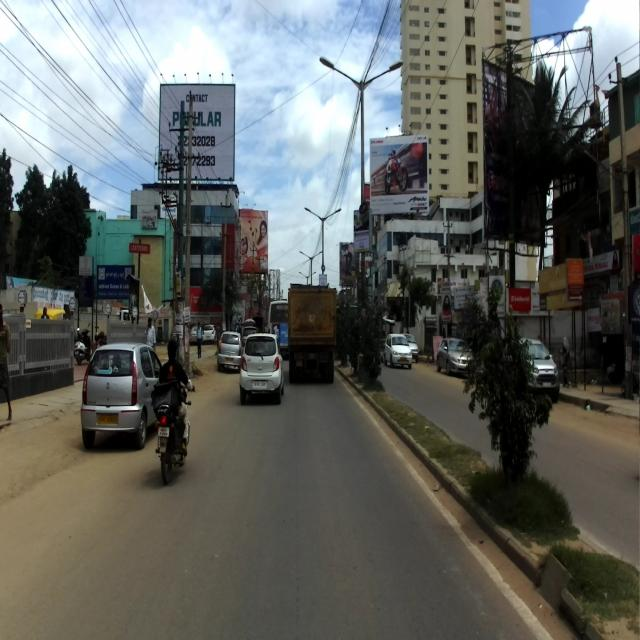car: (81, 341, 163, 449), (236, 331, 282, 405)
motorcycle: (154, 380, 196, 485)
truck: (288, 282, 338, 386)
